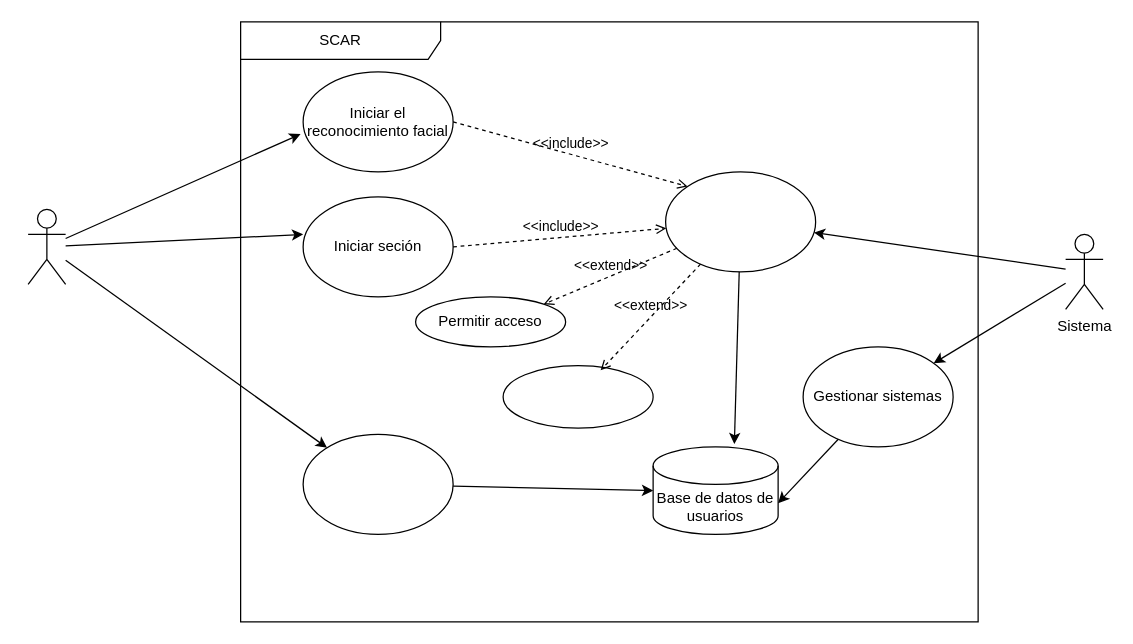
The diagram is 1133 pixels wide and 644 high, and some of its shapes have lost their labels. The shapes that lost their labels are listed below. From the top down, each one's box as (x1, y1, x2, y2) in pixels, then its label:
(664, 171, 816, 272): Verificar datos
(27, 208, 66, 284): Usuario
(502, 364, 653, 428): Mostrar error de autenticacion
(302, 433, 453, 534): Registrarse
